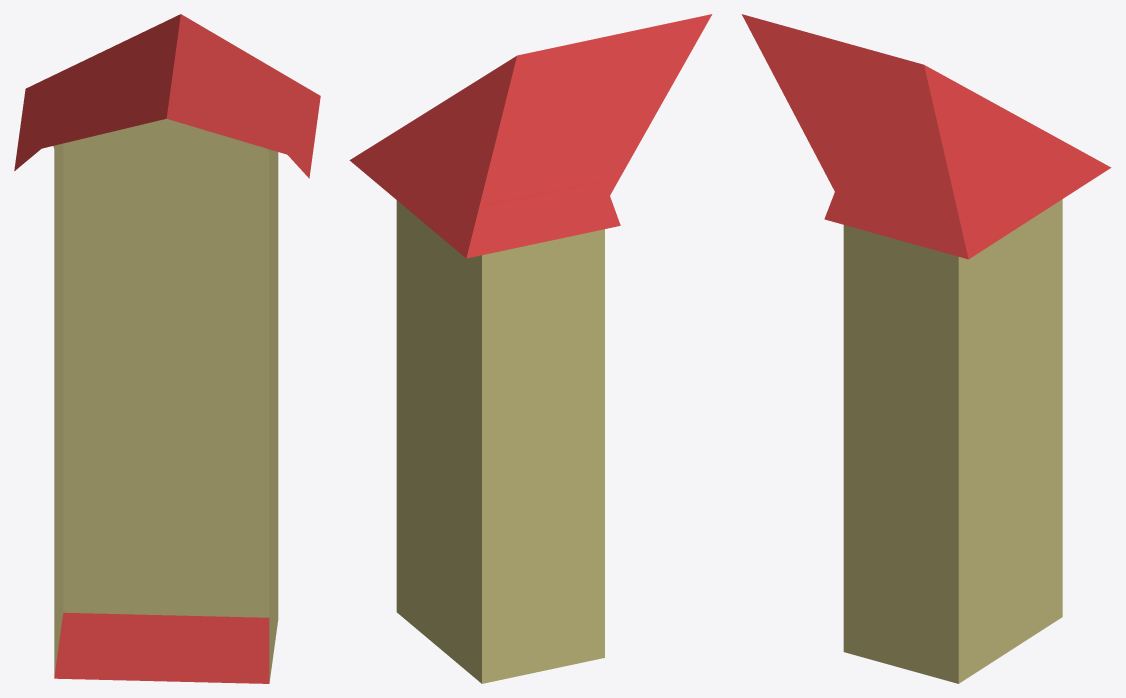
The picture shows the model from 3 angles, left to right: view 1: azimuth 30°, elevation 25°; view 2: azimuth 150°, elevation 25°; view 3: azimuth 270°, elevation 25°; orthographic projection. The views are drawn at different scales.
Parts seen in each view (by area): view 1: group_5, group_3, group_6, group_4; view 2: group_5, group_3, group_4; view 3: group_5, group_3, group_4.
Part boxes in pixels (x1,y1,x2,y2): group_5: [53, 119, 278, 683]; group_3: [14, 14, 320, 178]; group_6: [54, 612, 269, 683]; group_4: [18, 70, 320, 169]; group_5: [396, 200, 604, 683]; group_3: [349, 14, 711, 258]; group_4: [467, 14, 711, 257]; group_5: [843, 199, 1062, 683]; group_3: [742, 14, 1111, 259]; group_4: [742, 15, 966, 257].
Bounding box in the file's own units: 6.64 × 7.87 × 13.36.
